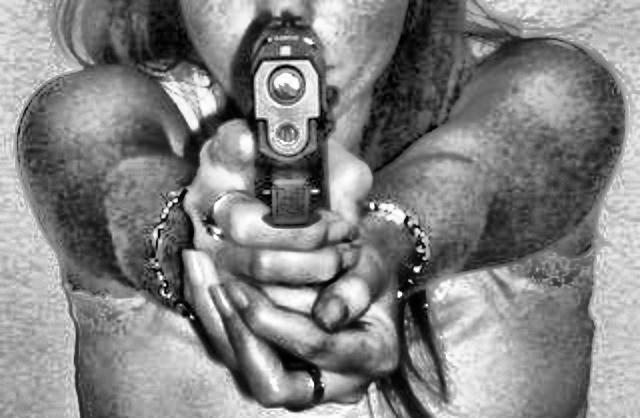pistol: (250, 14, 322, 226)
